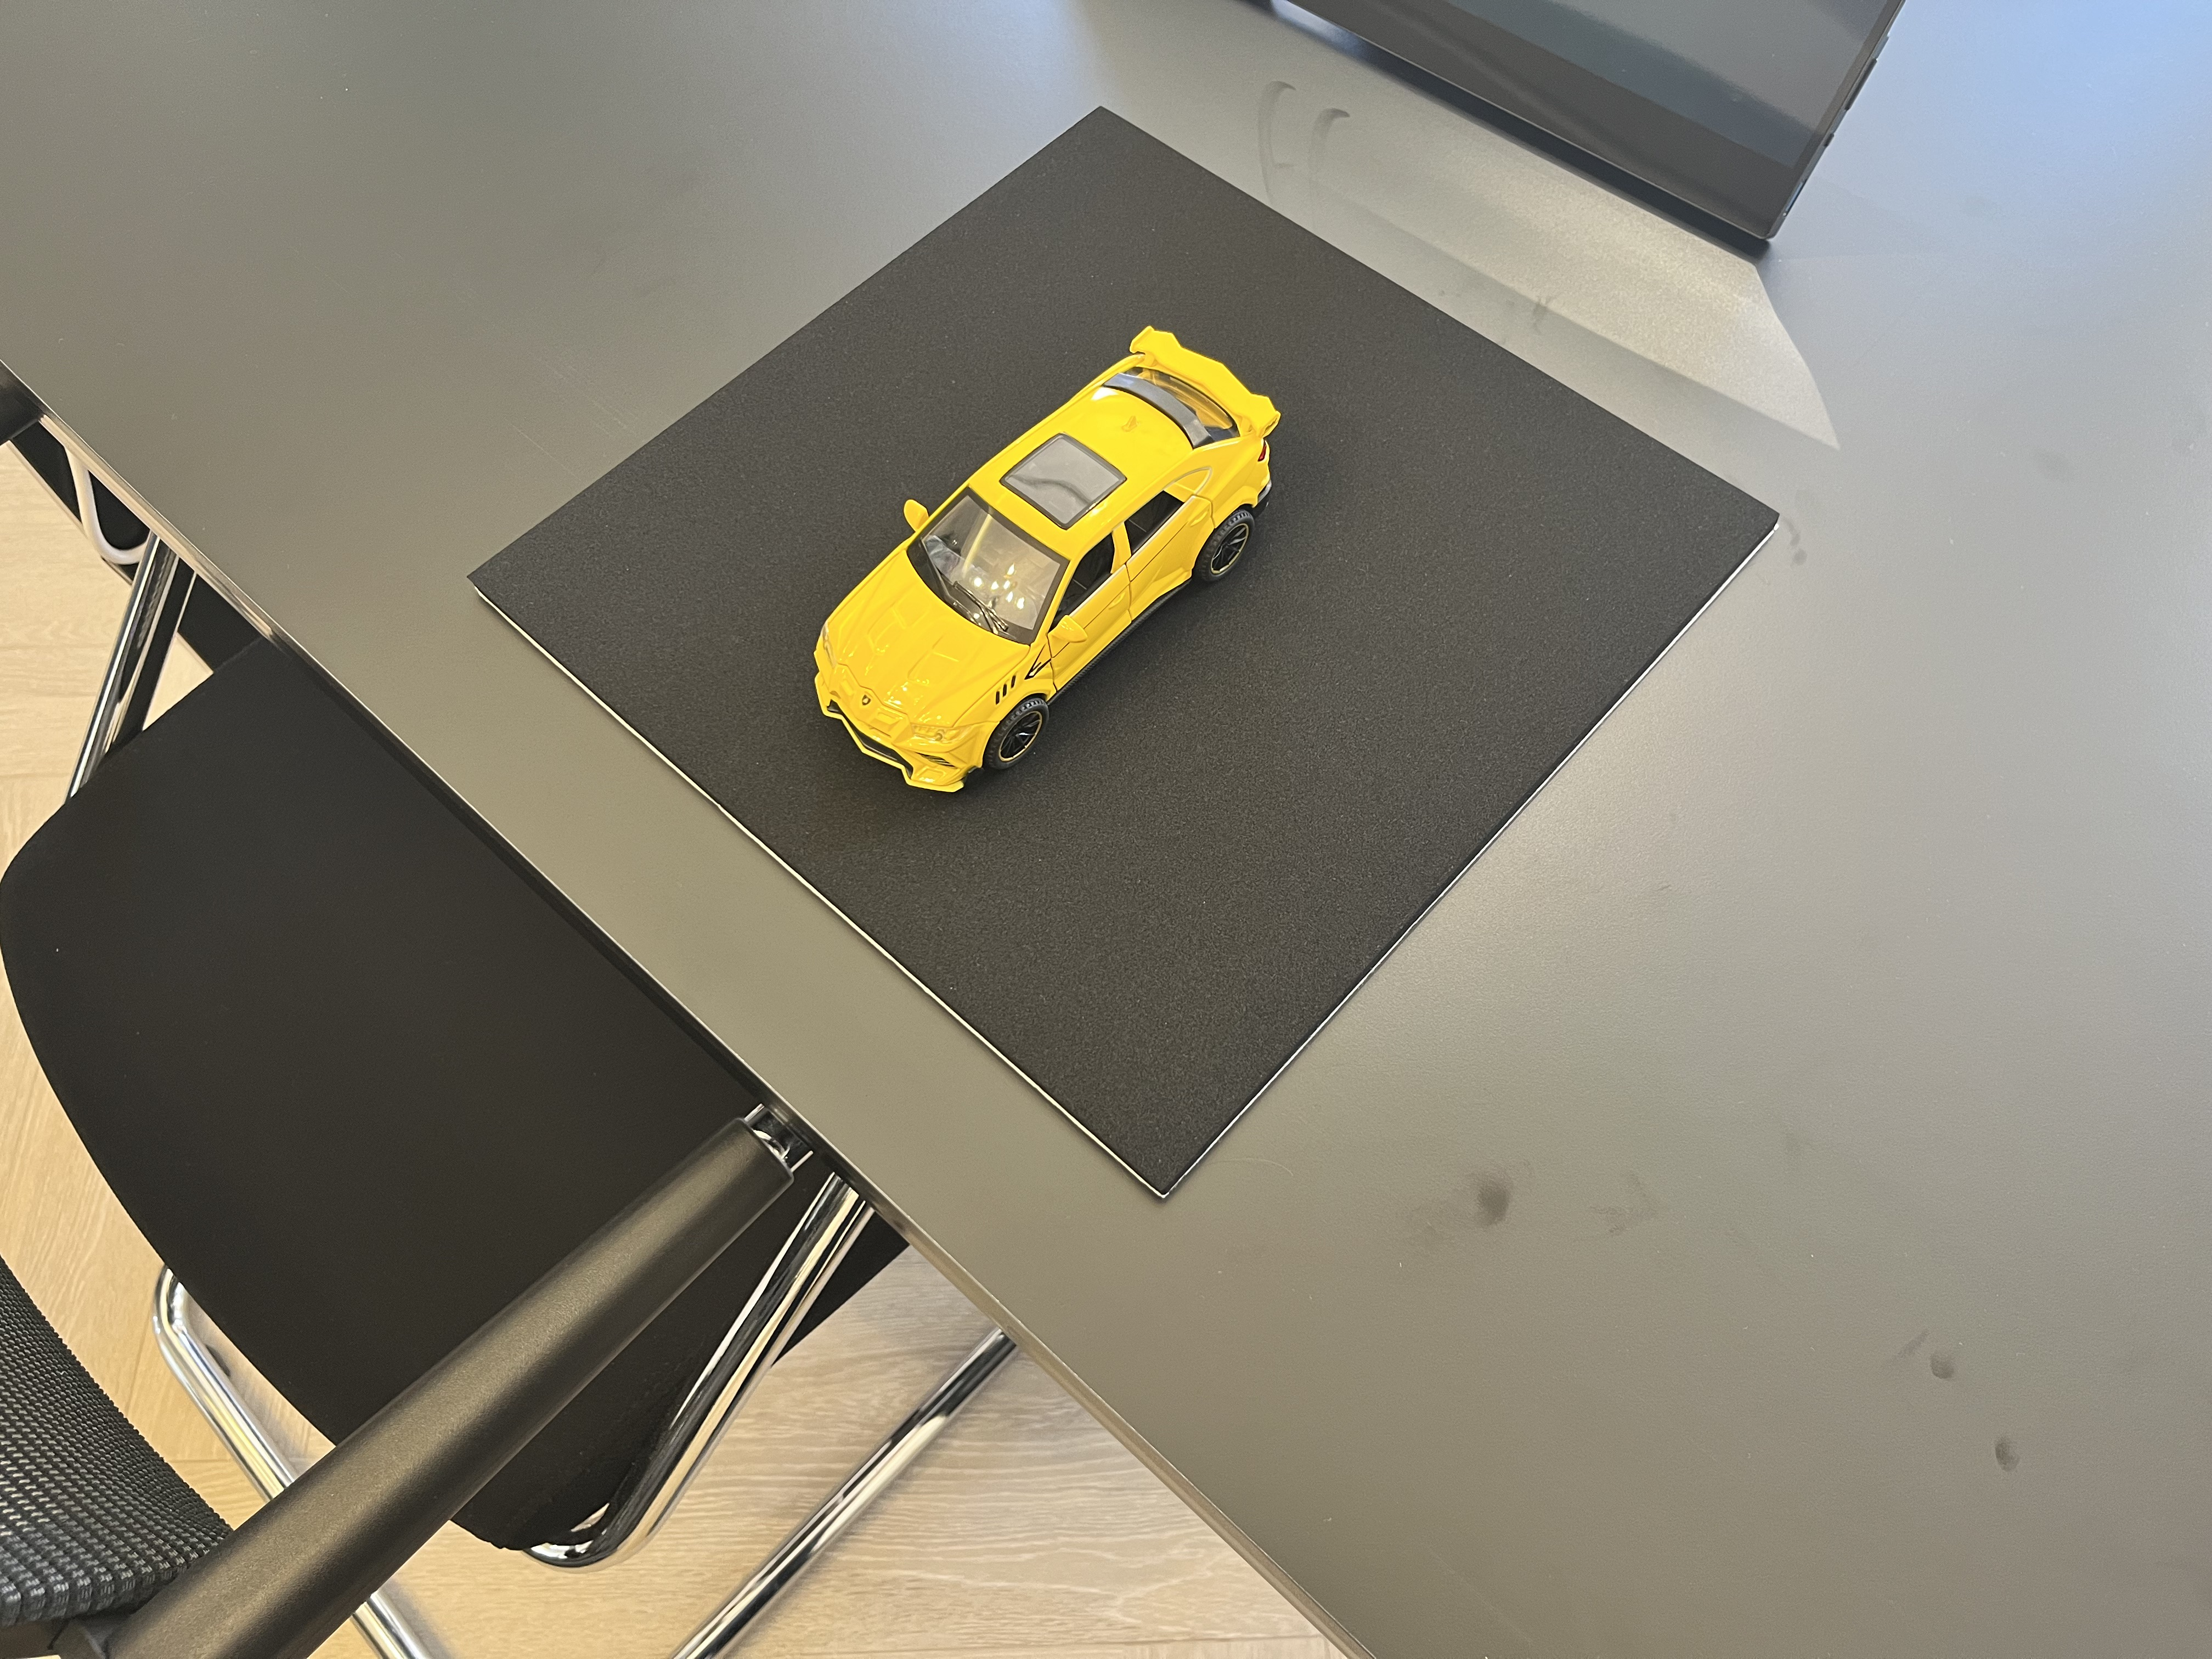lambo: (812, 324, 1275, 795)
